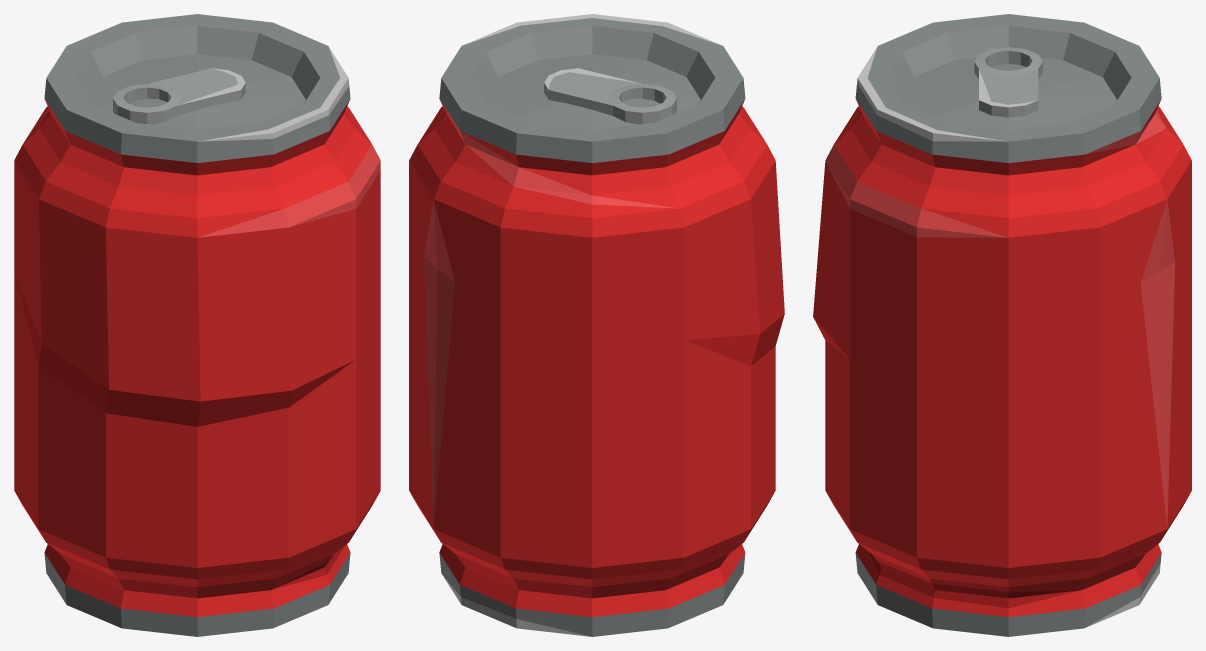
The model's file is mesh_can_red.fbx.
3 views of the same model, side by side, from view 1: azimuth 30°, elevation 25°; view 2: azimuth 150°, elevation 25°; view 3: azimuth 270°, elevation 25° (orthographic).
Parts seen in each view (by area): view 1: mesh_can_red; view 2: mesh_can_red; view 3: mesh_can_red.
Part boxes in pixels (x1=…): mesh_can_red: x1=14, y1=14, x2=380, y2=636; mesh_can_red: x1=409, y1=14, x2=784, y2=636; mesh_can_red: x1=813, y1=14, x2=1191, y2=636.
Size of the model in its own units: 0.1977 by 0.292 by 0.2025.
